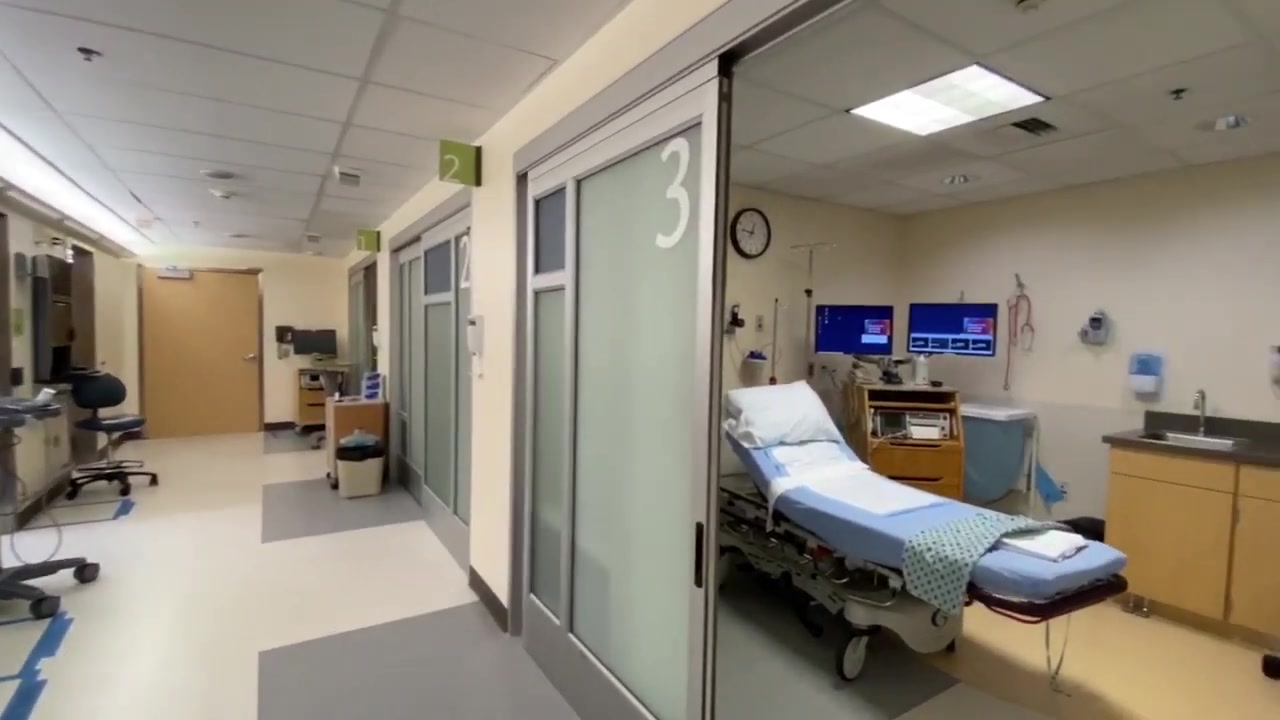cabinet: (1101, 429, 1278, 643)
chair: (60, 369, 159, 501)
computer: (906, 301, 999, 356), (815, 304, 895, 356), (292, 330, 337, 355)
dispenser: (1125, 350, 1162, 395), (461, 313, 490, 360)
door_handle: (241, 354, 256, 362)
drawer: (854, 380, 966, 501), (294, 368, 341, 433)
exam_table: (722, 386, 1128, 679)
faucet: (1191, 389, 1210, 436)
iv_pole: (791, 232, 834, 390), (770, 296, 780, 385)
sink: (1132, 427, 1240, 456)
telephone: (277, 326, 294, 344)
waste_bin: (961, 400, 1037, 509), (335, 431, 385, 497)
